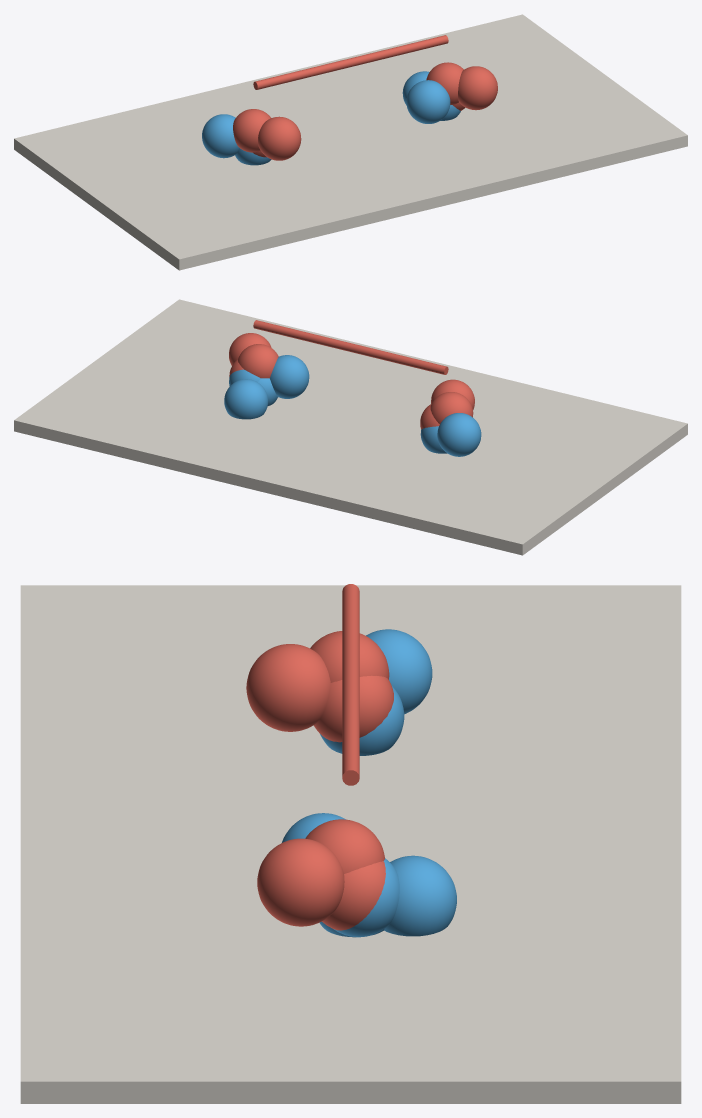
The model's file is chem-atoms-isotope.glb.
3 views of the same model, one above another, from view 1: azimuth 30°, elevation 25°; view 2: azimuth 150°, elevation 25°; view 3: azimuth 270°, elevation 25° (orthographic). The views are drawn at different scales.
Visible parts, largest first — view 1: concept-base, proton-2 (×2), neutron-1 (×2), proton-3 (×2), same-proton-count-link; view 2: concept-base, neutron-1 (×2), proton-3 (×2), same-proton-count-link, neutron-3, proton-2 (×2), neutron-2; view 3: concept-base, proton-2 (×2), proton-1 (×2), proton-3 (×2), neutron-3, same-proton-count-link, neutron-1, neutron-4, neutron-2.
Part boxes in pixels (<box>): concept-base: <box>14,14,687,270</box>; proton-2 (×2): <box>258,66,497,160</box>; neutron-1 (×2): <box>202,80,450,158</box>; proton-3 (×2): <box>233,62,463,152</box>; same-proton-count-link: <box>253,35,448,89</box>; concept-base: <box>14,299,687,555</box>; neutron-1 (×2): <box>269,355,481,456</box>; proton-3 (×2): <box>238,344,473,424</box>; same-proton-count-link: <box>253,320,448,374</box>; neutron-3: <box>224,379,268,419</box>; proton-2 (×2): <box>229,333,474,409</box>; neutron-2: <box>420,426,447,453</box>; concept-base: <box>20,585,681,1103</box>; proton-2 (×2): <box>246,644,344,926</box>; proton-1 (×2): <box>314,675,393,930</box>; proton-3 (×2): <box>305,631,389,873</box>; neutron-3: <box>384,855,456,936</box>; same-proton-count-link: <box>342,584,359,785</box>; neutron-1: <box>366,629,432,714</box>; neutron-4: <box>334,858,399,937</box>; neutron-2: <box>320,686,404,755</box>.
Size of what is drawn, in the model's own units: 2.4 by 0.4025 by 1.35.
